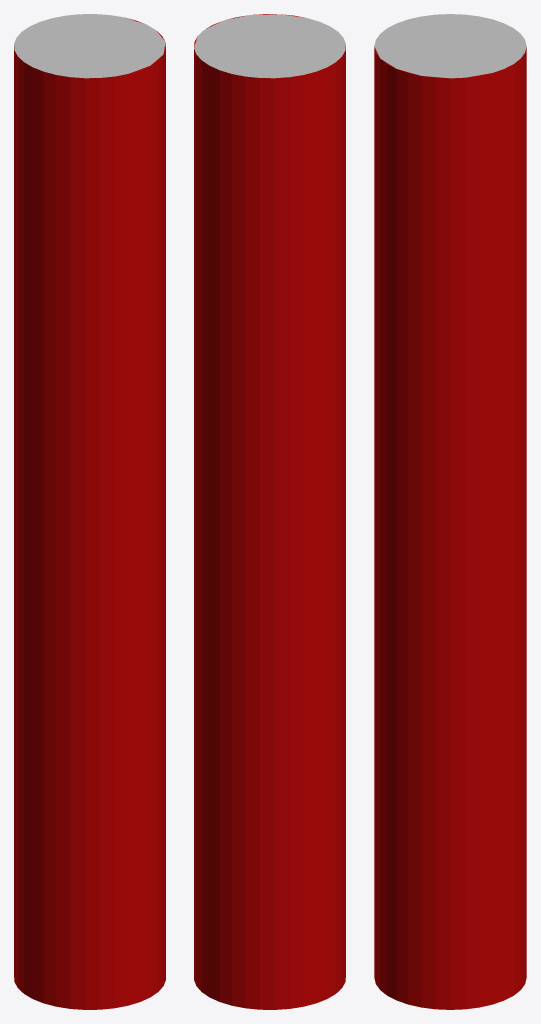
Rendered from pringles_skinny.dae.
3 views of the same model, side by side, from view 1: azimuth 30°, elevation 25°; view 2: azimuth 150°, elevation 25°; view 3: azimuth 270°, elevation 25° (orthographic).
Parts seen in each view (by area): view 1: Cylinder; view 2: Cylinder; view 3: Cylinder.
Boxes of the visible parts, bbox=[...] form: Cylinder: bbox=[14, 14, 165, 1009]; Cylinder: bbox=[194, 14, 345, 1009]; Cylinder: bbox=[374, 14, 526, 1009].
Size of the model in its own units: 0.04 by 0.04 by 0.27.
